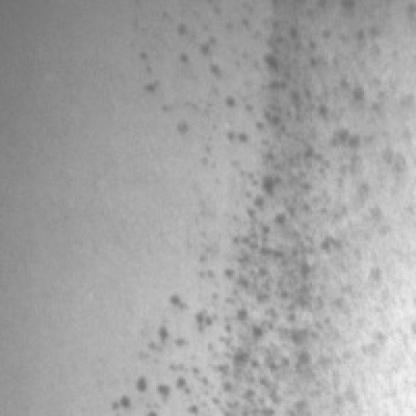pitted_surface: (114, 0, 383, 410)
